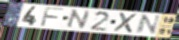2: (90, 11, 112, 32)
4: (21, 6, 38, 26)
F: (39, 6, 66, 28)
N: (134, 14, 163, 35), (65, 9, 93, 30)
X: (113, 12, 140, 34)
